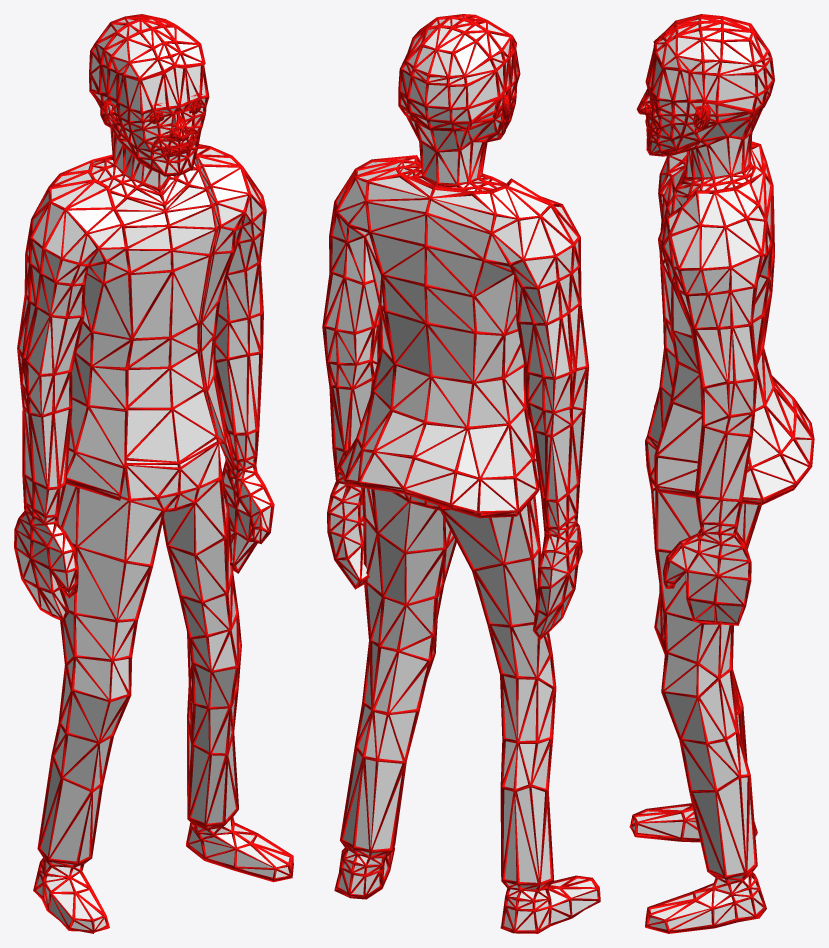
File: elegantIdle_000016.obj
3 renders of one model, left to right at view 1: azimuth 30°, elevation 25°; view 2: azimuth 150°, elevation 25°; view 3: azimuth 270°, elevation 25°, orthographic. The views are drawn at different scales.
Visible parts, largest first — view 1: BaseHuman_Cylinder.002; view 2: BaseHuman_Cylinder.002; view 3: BaseHuman_Cylinder.002.
Part boxes in pixels (x1=…): BaseHuman_Cylinder.002: x1=14, y1=14, x2=293, y2=933; BaseHuman_Cylinder.002: x1=322, y1=14, x2=600, y2=933; BaseHuman_Cylinder.002: x1=629, y1=14, x2=814, y2=933.
Size of the model in its own units: 1.44 by 4.84 by 0.9506.
